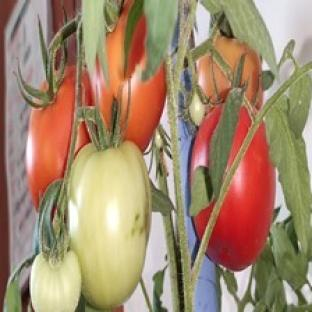Tomato: (69, 141, 151, 310), (207, 123, 275, 270), (26, 66, 76, 210), (214, 35, 263, 107), (30, 251, 80, 311), (189, 92, 204, 126)
